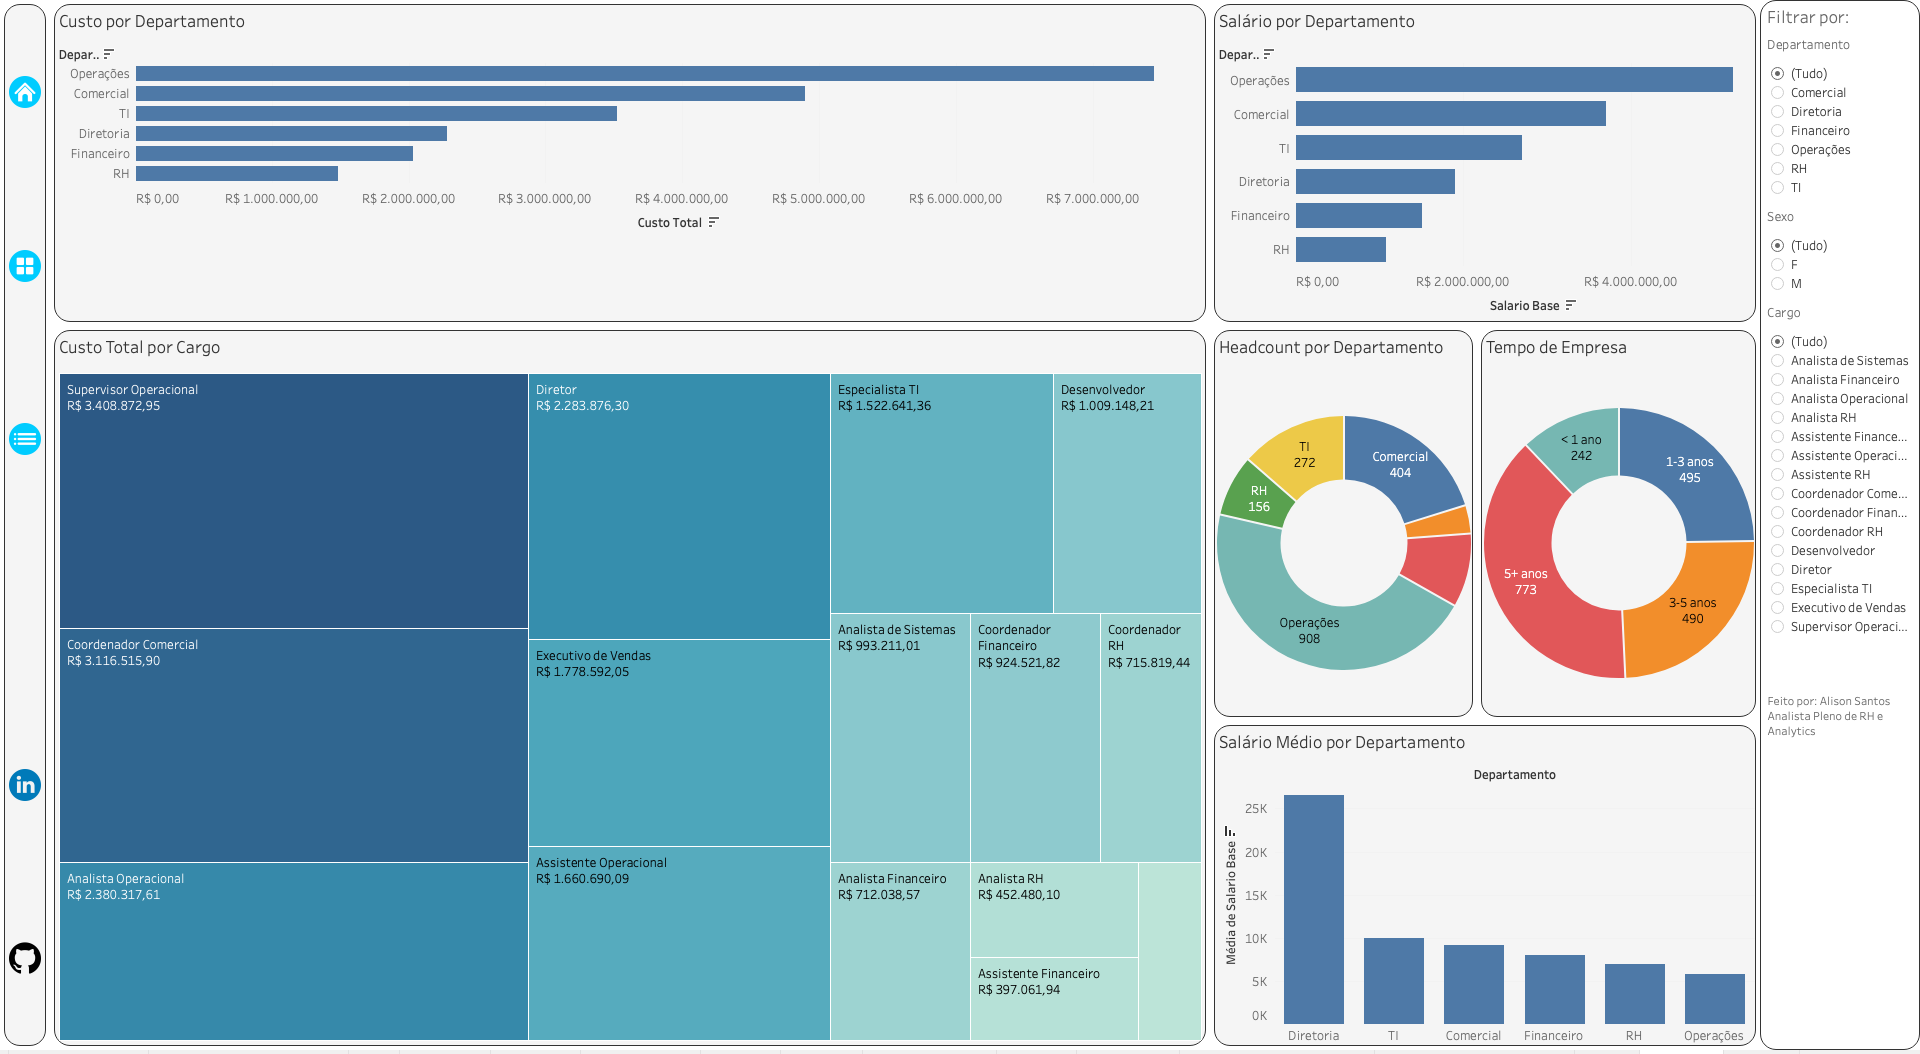

The page's visual inventory and layout, read from the dashboard file:
{"tool":"tableau","page":{"name":"Analytics","canvas":[1000,1000],"units":"permille","ordinal":0},"visuals":[{"type":"worksheet","title":"Custo por Departamento","mark":"Bar","rows":["departamento"],"cols":["custo_total"],"box":[26.1,0,604.1,310.7]},{"type":"worksheet","title":"Salário por Departamento","mark":"Automatic","rows":["departamento"],"cols":["salario_base"],"box":[630.1,0,286.6,310.7]},{"type":"text","box":[917.2,1,82.3,29.5]},{"type":"dashboard-object","box":[2.6,4.8,20.8,165.7]},{"type":"text","box":[917.2,30.5,82.3,23.8]},{"type":"filter","title":"Headcount por Departamento","param":"[federated.0pr0eoh1fvctpj18t7cgq0z2kr19].[none:departamento:nk]","box":[917.2,54.3,82.3,140]},{"type":"dashboard-object","box":[2.6,170.5,20.8,165.7]},{"type":"text","box":[917.2,194.3,82.3,23.8]},{"type":"filter","title":"Headcount por Departamento","param":"[federated.0pr0eoh1fvctpj18t7cgq0z2kr19].[none:sexo:nk]","box":[917.2,218.1,82.3,67.6]},{"type":"text","box":[917.2,285.7,82.3,23.8]},{"type":"filter","title":"Headcount por Departamento","param":"[federated.0pr0eoh1fvctpj18t7cgq0z2kr19].[none:cargo:nk]","box":[917.2,309.5,82.3,302.9]},{"type":"worksheet","title":"Custo Total por Cargo","mark":"Automatic","box":[26.1,310.7,604.1,689.4]},{"type":"worksheet","title":"Headcount por Departamento","mark":"VizExtension","box":[630.1,310.7,139.3,376.1]},{"type":"worksheet","title":"Tempo de Empresa","mark":"VizExtension","box":[769.4,310.7,147.2,376.1]},{"type":"dashboard-object","box":[2.6,336.2,20.8,164.8]},{"type":"blank","box":[2.6,500.9,20.8,164.8]},{"type":"text","box":[917.2,612.4,82.3,141]},{"type":"image","param":"/Users/alison/Library/Mobile Documents/com~apple~CloudDocs/payroll-analytics/ass","box":[2.6,665.7,20.8,164.8]},{"type":"worksheet","title":"Salário Médio por Departamento","mark":"Automatic","rows":["salario_base"],"cols":["departamento"],"box":[630.1,686.7,286.6,313.3]},{"type":"image","param":"/Users/alison/Library/Mobile Documents/com~apple~CloudDocs/payroll-analytics/ass","box":[2.6,830.5,20.8,164.8]}]}

Visuals, with their boxes on the dashboard's canvas, which has no fixed pixel size, in thousandths of its width and height (x1, y1, x2, y2). These are canvas units, not pixel positions in the 1920x1054 screenshot, which may show the page scaled, cropped or inside an application window:
"Custo por Departamento" worksheet (Bar marks): 26,0,630,311
"Salário por Departamento" worksheet: 630,0,917,311
text: 917,1,1000,30
dashboard-object: 3,5,23,170
text: 917,30,1000,54
"Headcount por Departamento" filter: 917,54,1000,194
dashboard-object: 3,170,23,336
text: 917,194,1000,218
"Headcount por Departamento" filter: 917,218,1000,286
text: 917,286,1000,310
"Headcount por Departamento" filter: 917,310,1000,612
"Custo Total por Cargo" worksheet: 26,311,630,1000
"Headcount por Departamento" worksheet (VizExtension marks): 630,311,769,687
"Tempo de Empresa" worksheet (VizExtension marks): 769,311,917,687
dashboard-object: 3,336,23,501
blank: 3,501,23,666
text: 917,612,1000,753
image: 3,666,23,830
"Salário Médio por Departamento" worksheet: 630,687,917,1000
image: 3,830,23,995
